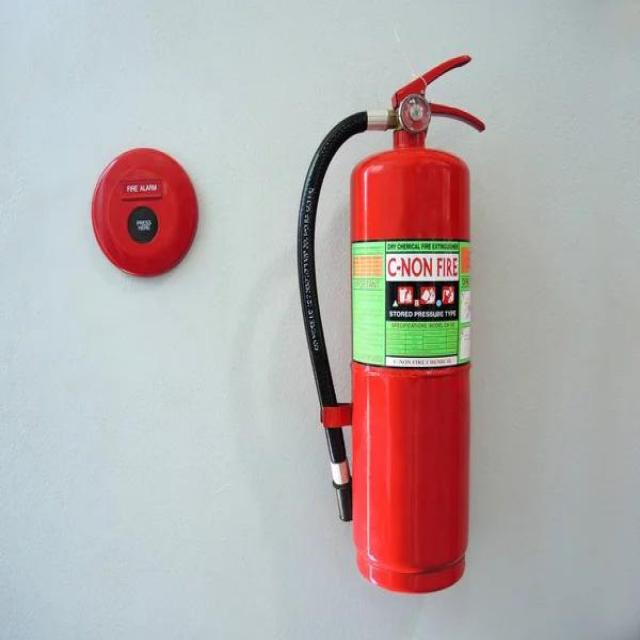fire_extinguisher: (294, 48, 488, 596)
